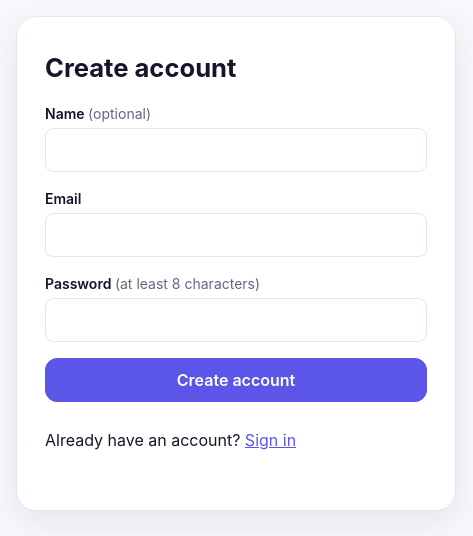
Scenario: Design auth screens — email and password only › sign-up with a session shows the account-created step before going home
Type "driver@example.com" into the field labelled "Email". click: {"x": 236, "y": 235}
box: [45, 213, 427, 257]
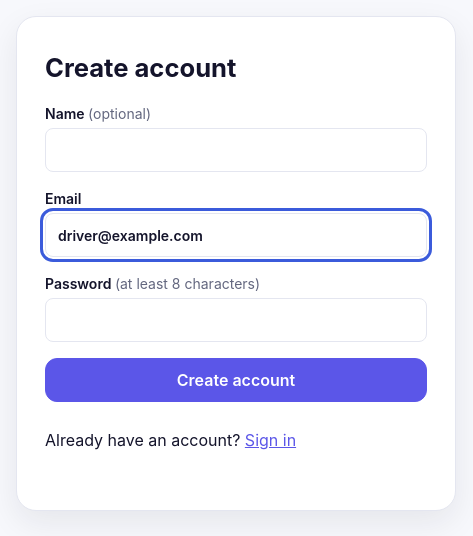
Type "correct-horse-1" into the password field labelled "Password (at least 8 characters)". click: {"x": 236, "y": 320}
box: [45, 298, 427, 342]
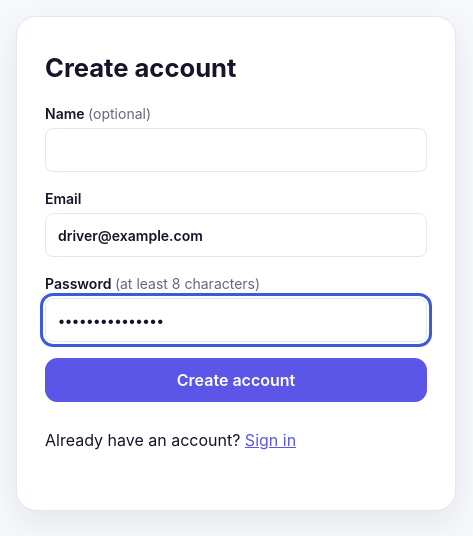
Click the button "Create account". click: {"x": 236, "y": 380}
box: [45, 358, 427, 402]
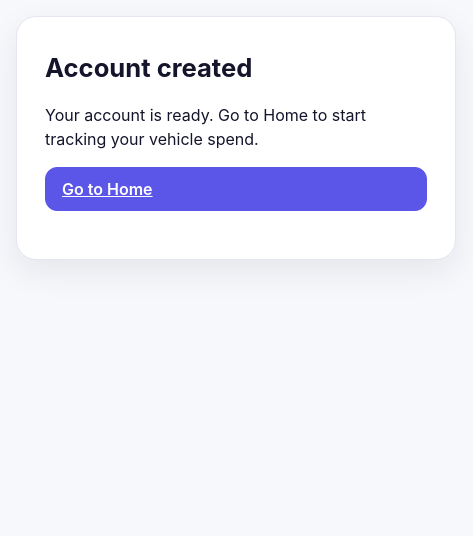
Expected: the heading "Account created" is shown, [45, 52, 252, 83]
